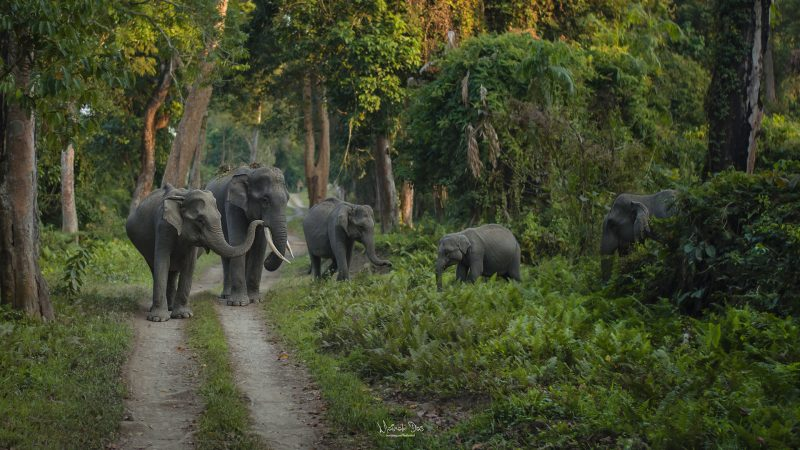Indian Elephant: (122, 177, 253, 322), (200, 156, 300, 304), (591, 179, 694, 286), (428, 216, 551, 295), (298, 192, 395, 279)
